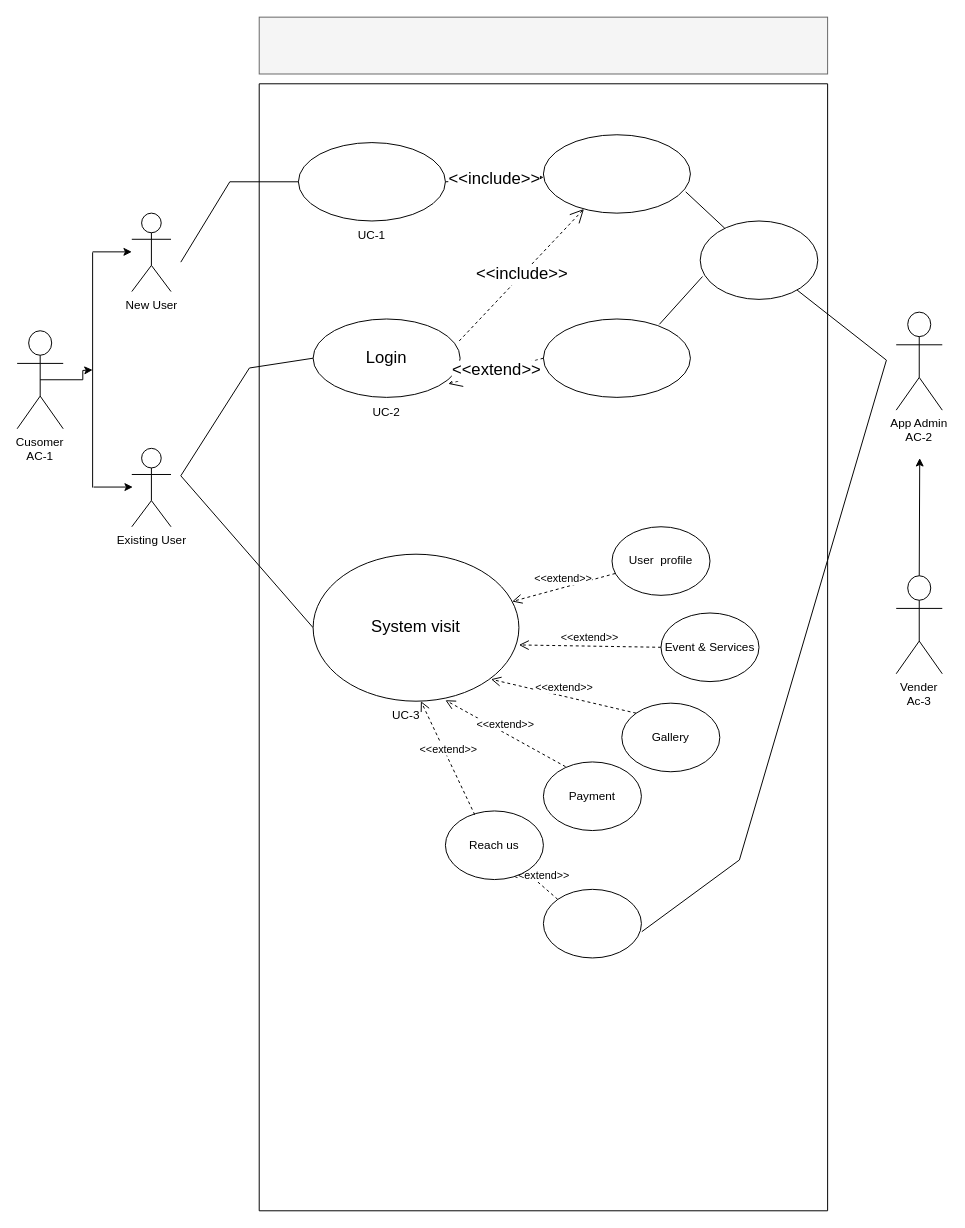
This 965x1228 diagram has some shape labels left out. Here are the shapes that lost their labels. From the top down, the centre of each, then its label:
[543,45]: Login System
[371,181]: Register
[616,173]: Authentication
[758,259]: Update Database
[616,357]: Forget password
[591,923]: Feedback
